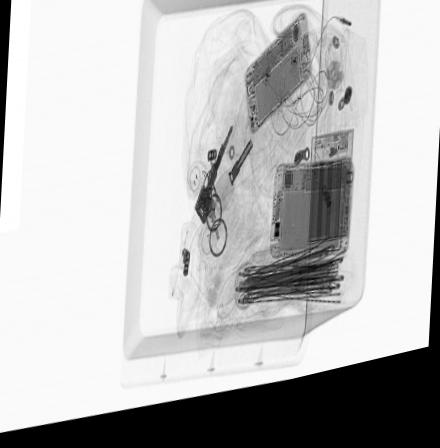Powerbank: (306, 144, 354, 261)
